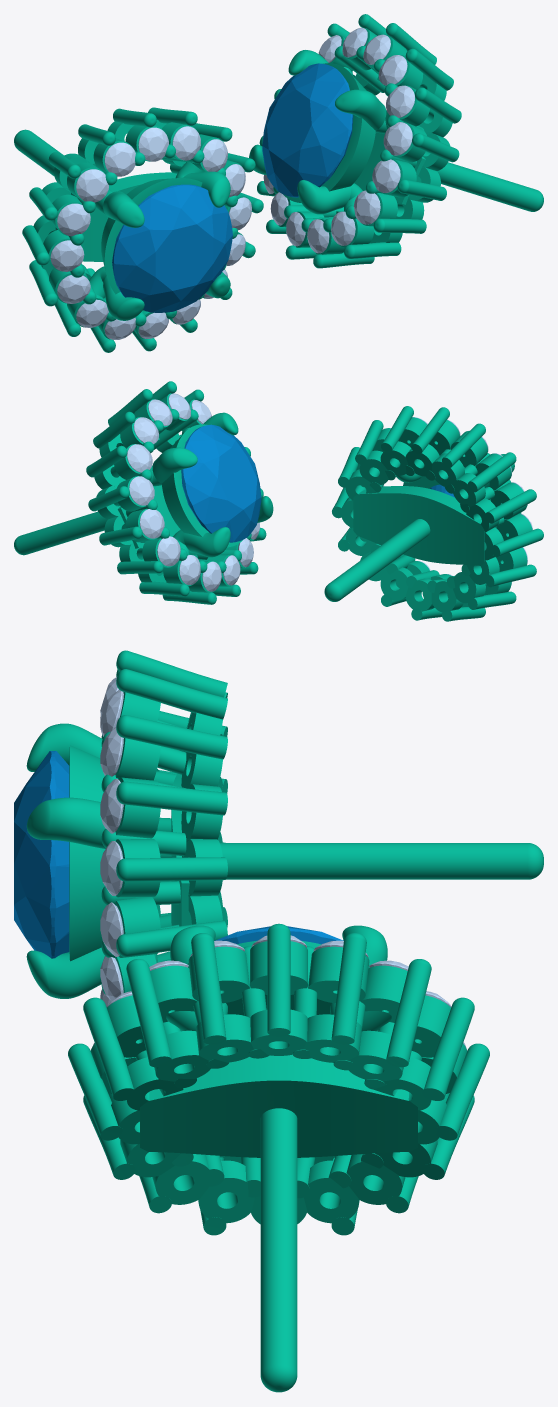
3 renders of one model, top to bottom at view 1: azimuth 30°, elevation 25°; view 2: azimuth 150°, elevation 25°; view 3: azimuth 270°, elevation 25°, orthographic. The views are drawn at different scales.
Parts seen in each view (by area): view 1: Diamond_Round (×26), VR695.3dm, Bezel (×12); view 2: VR695.3dm, Bezel (×32), Diamond_Round (×13); view 3: VR695.3dm, Bezel (×31), Diamond_Round (×5).
Part boxes in pixels (bbox=[...]): Diamond_Round (×26): bbox=[50, 27, 414, 339]; VR695.3dm: bbox=[14, 14, 543, 352]; Bezel (×12): bbox=[101, 55, 452, 311]; VR695.3dm: bbox=[14, 381, 543, 621]; Bezel (×32): bbox=[94, 417, 532, 612]; Diamond_Round (×13): bbox=[127, 393, 261, 591]; VR695.3dm: bbox=[26, 650, 543, 1392]; Bezel (×31): bbox=[69, 738, 450, 1223]; Diamond_Round (×5): bbox=[14, 751, 343, 958].
Bounding box in the file's own units: 3.34 × 1.37 × 1.72.
